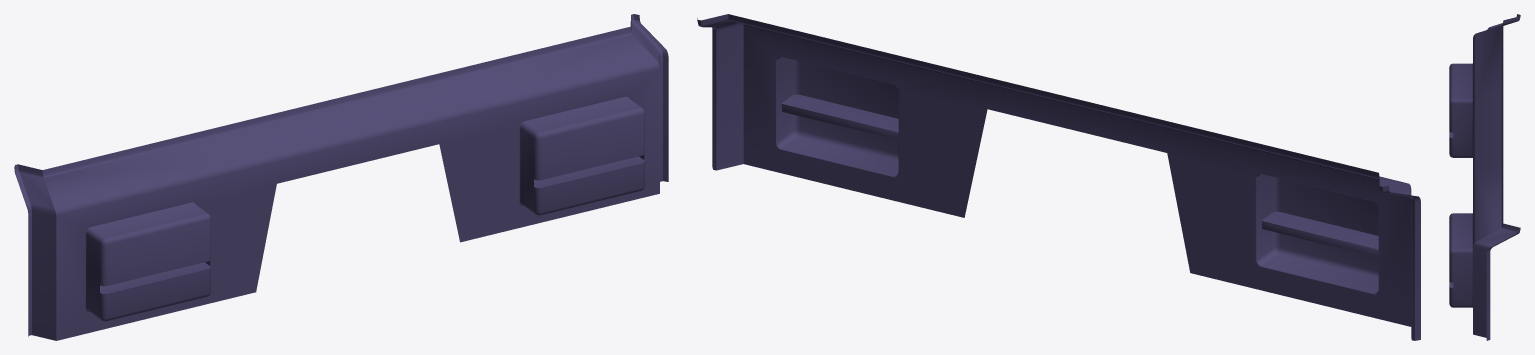
File: Mh_MidWall_02.fbx
3 views of the same model, side by side, from view 1: azimuth 30°, elevation 25°; view 2: azimuth 150°, elevation 25°; view 3: azimuth 270°, elevation 25° (orthographic). The views are drawn at different scales.
Parts seen in each view (by area): view 1: Mh_MidWall_02; view 2: Mh_MidWall_02; view 3: Mh_MidWall_02.
Part boxes in pixels (x1,y1,x2,y2): Mh_MidWall_02: (14,14,668,340); Mh_MidWall_02: (697,14,1420,340); Mh_MidWall_02: (1449,14,1520,340).
Size of the model in its own units: 1801 by 412 by 245.
